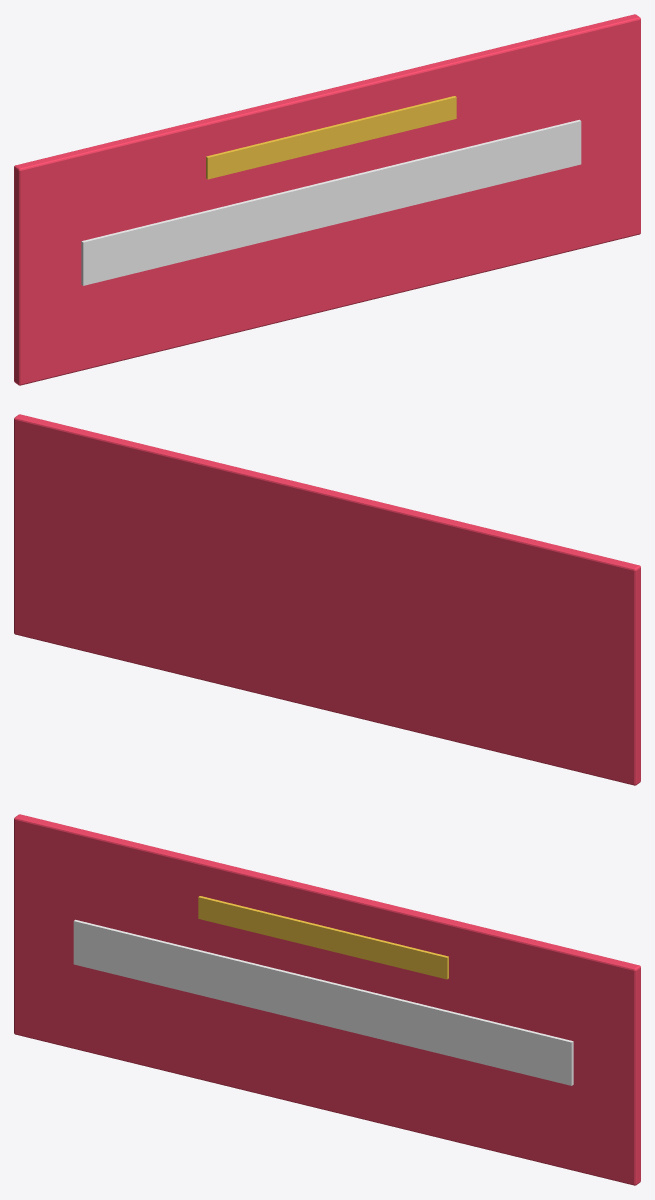
Rendered from Boxing_Banner.fbx.
3 renders of one model, top to bottom at view 1: azimuth 30°, elevation 25°; view 2: azimuth 150°, elevation 25°; view 3: azimuth 330°, elevation 25°, orthographic.
Parts seen in each view (by area): view 1: Banner; view 2: Banner; view 3: Banner.
Part boxes in pixels (left/top/right/bottom): Banner: left=14, top=14, right=640, bottom=385; Banner: left=14, top=414, right=640, bottom=785; Banner: left=14, top=814, right=640, bottom=1185.
Bounding box in the file's own units: 3 × 1 × 0.065.
